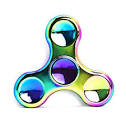fidget_spinner: (2, 4, 121, 115)
